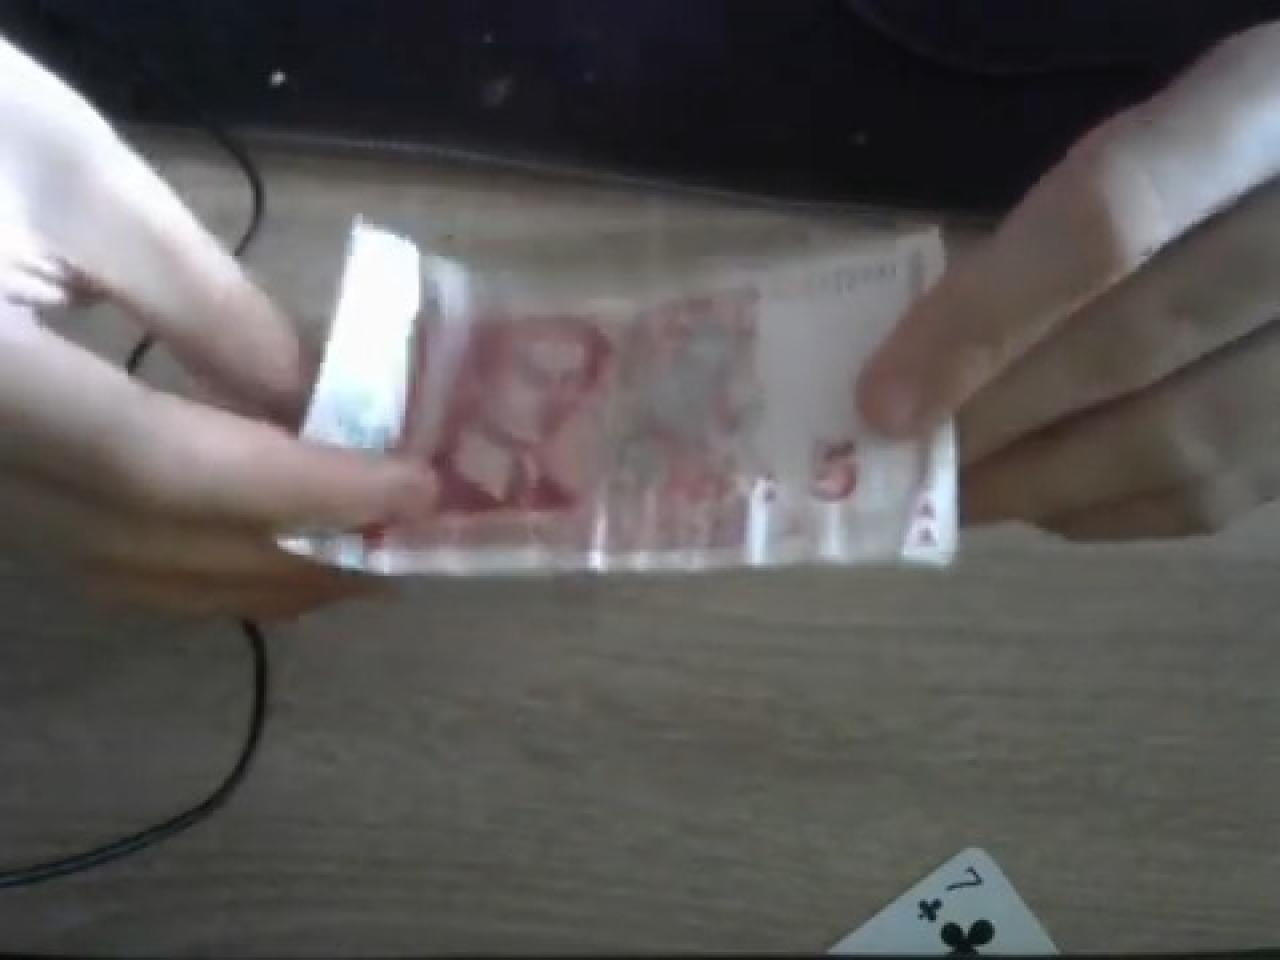5leva: (456, 291, 787, 573)
